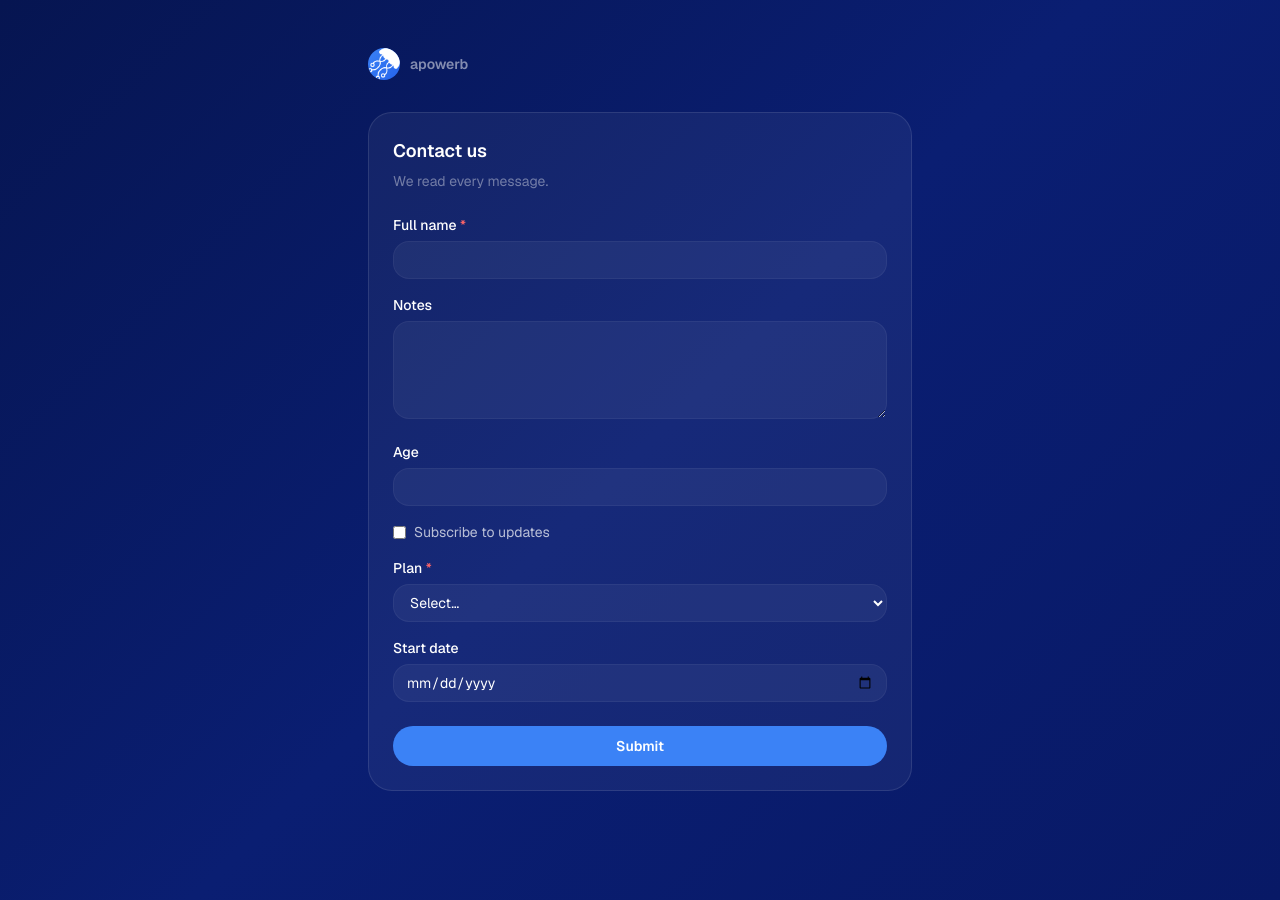
Test: WorkflowFormView › invites sign-in on a 401 at submit time
Expected: the heading "Contact us" is shown, [393,139,487,162]
Type "Jamie Doe" into the field labelled "Full name *".
click(640, 260); type("Jamie Doe")  # box [393,241,887,279]
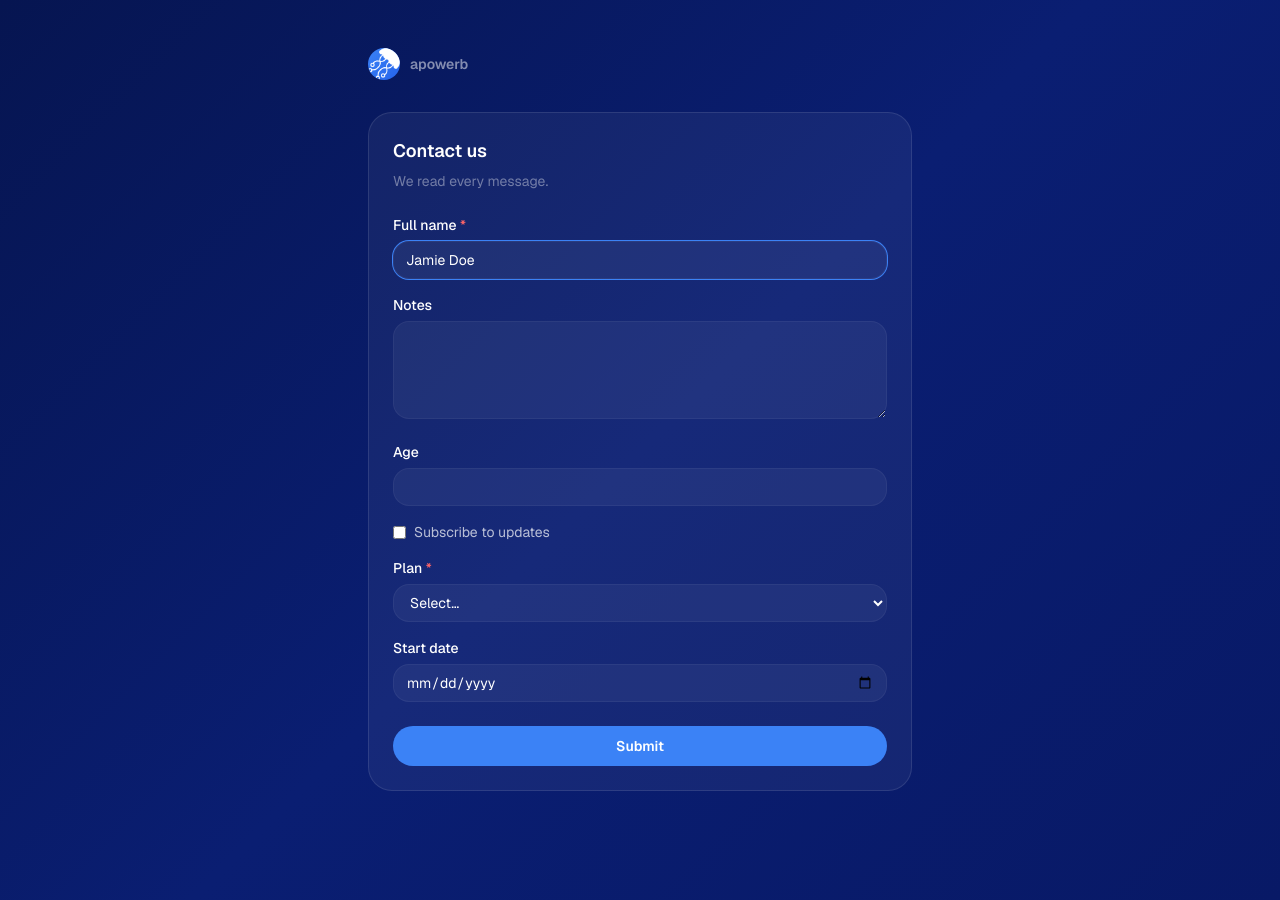
Select "pro" in the dropdown labelled "Plan *" at (640, 603), box [393,584,887,622]
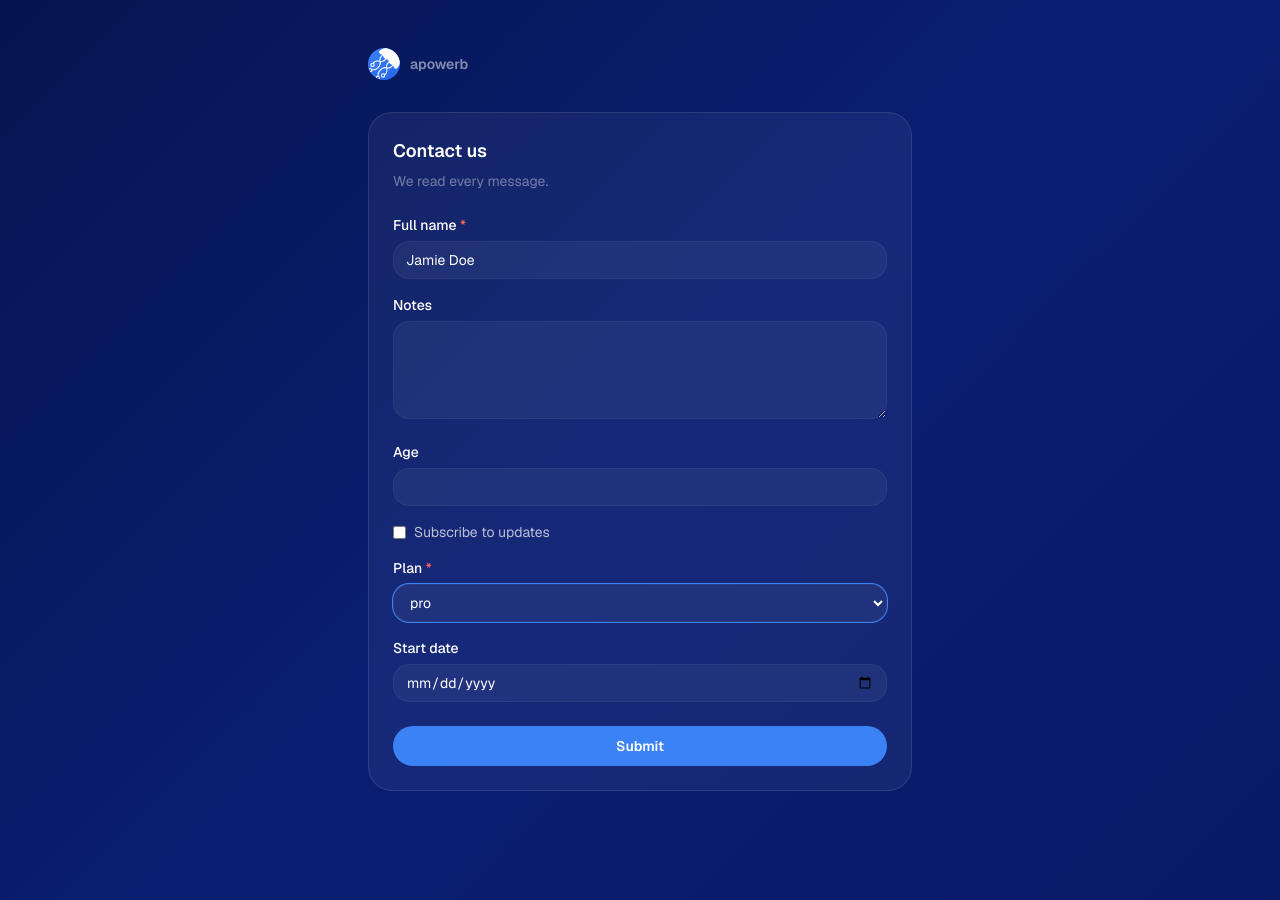
Click the button "Submit".
click(640, 746)  # box [393,726,887,766]
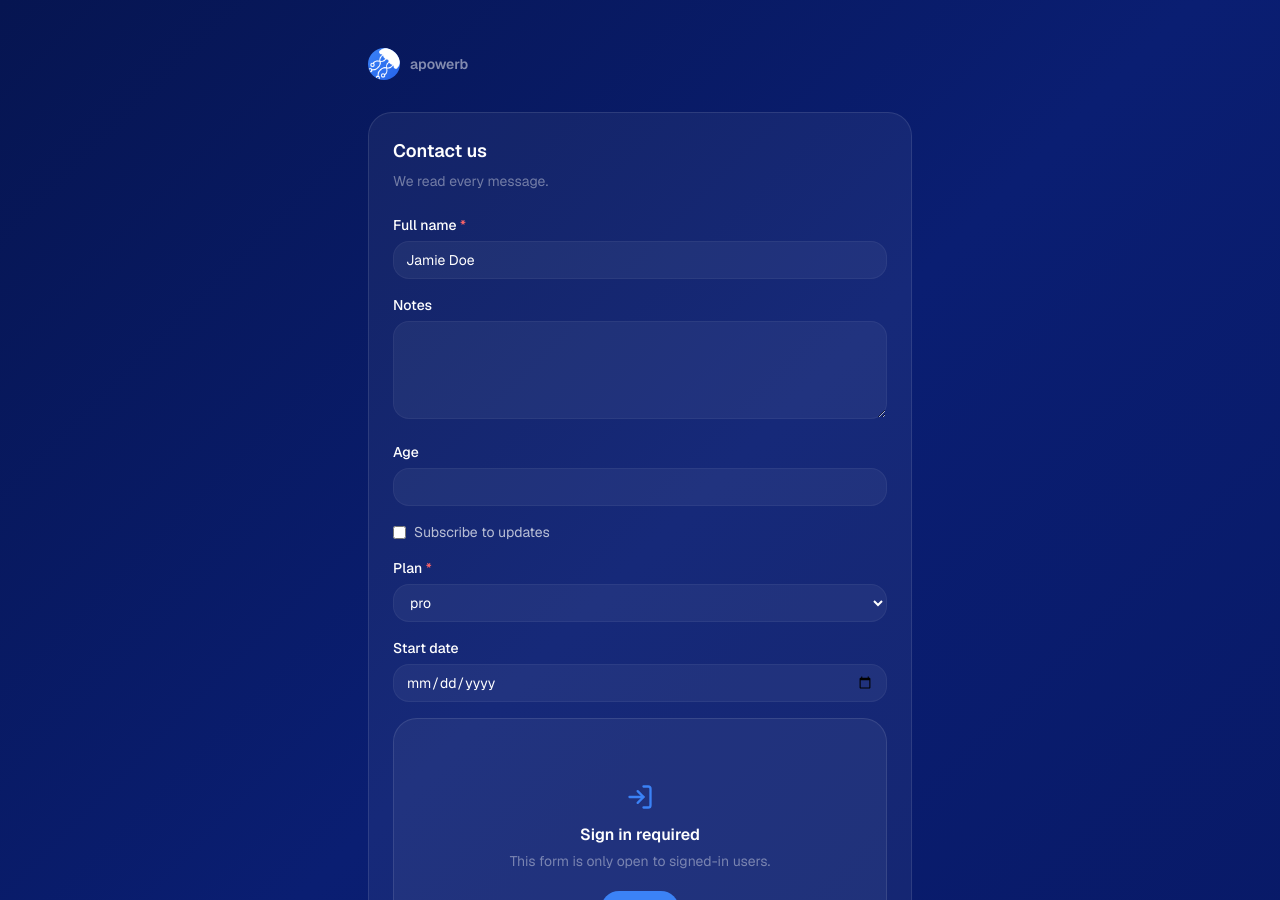
Expected: the text "Sign in required" is shown, [580,824,700,845]
